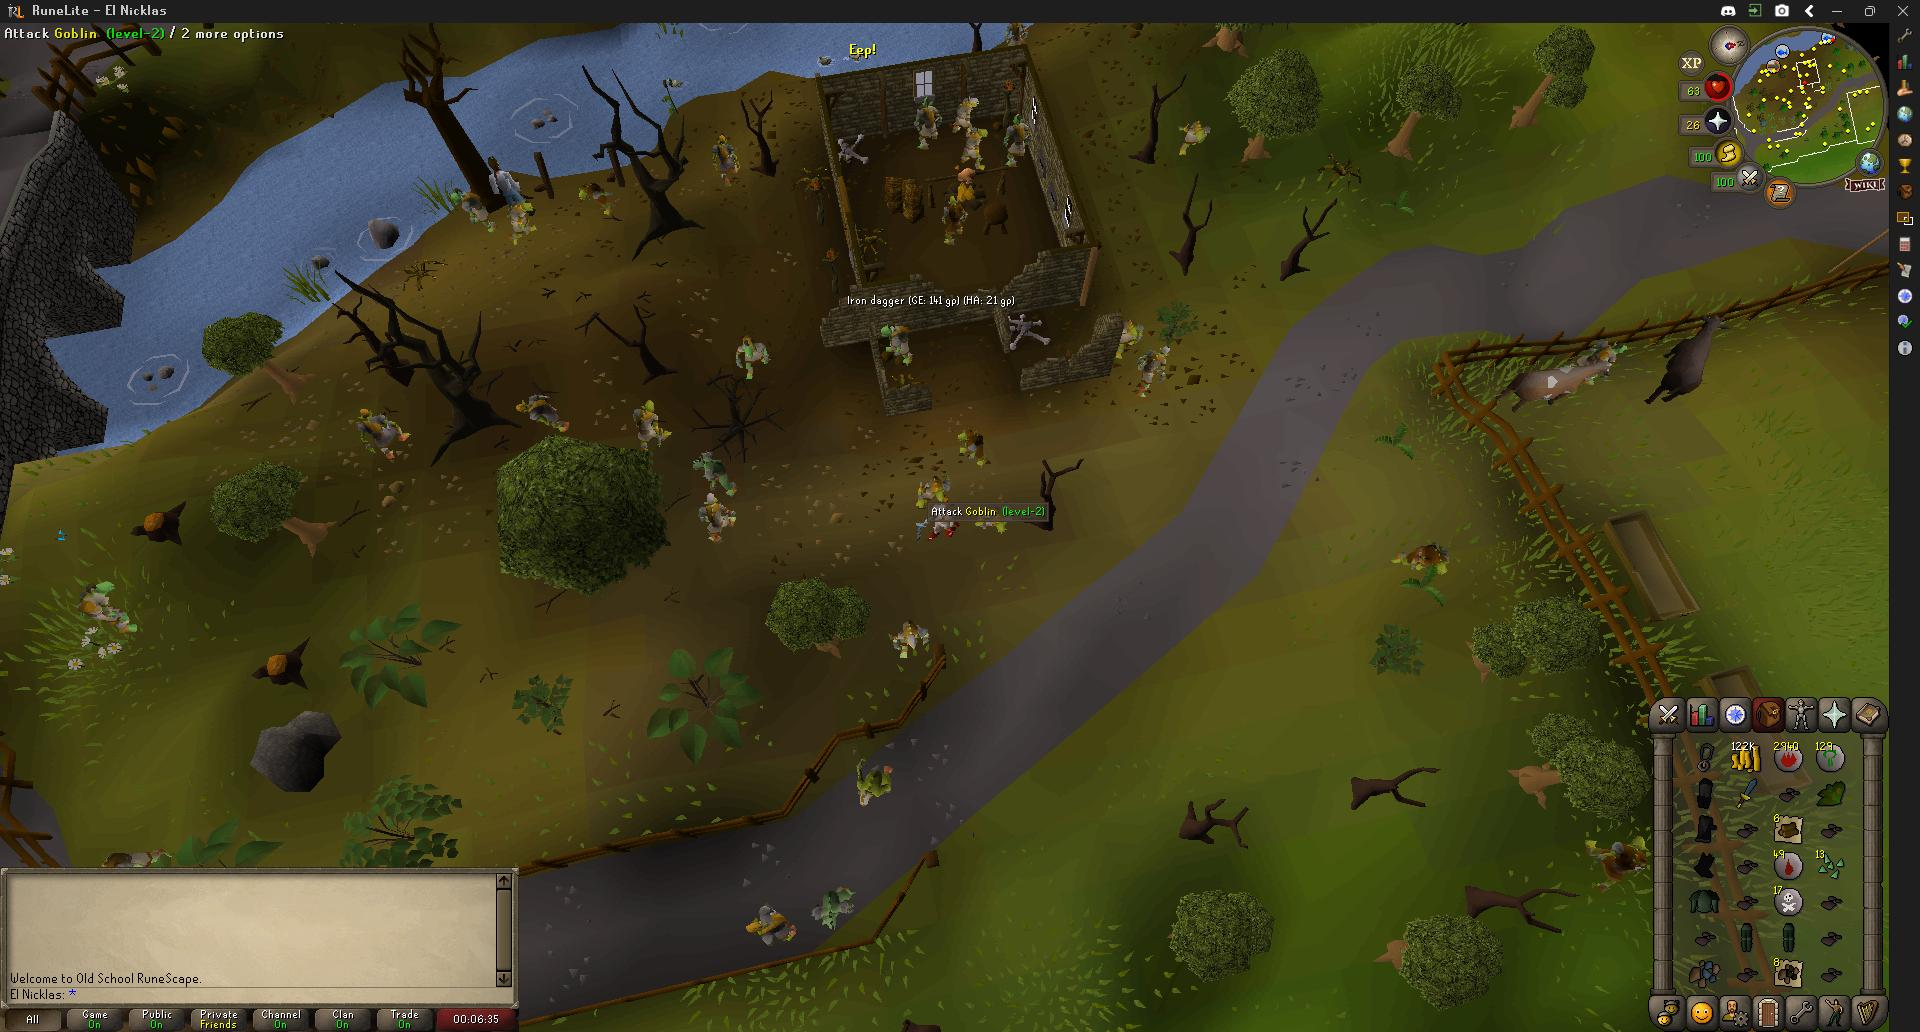Goblin: (1587, 835, 1652, 891), (1394, 538, 1449, 597), (517, 391, 571, 441), (854, 755, 893, 806), (456, 191, 501, 235), (812, 886, 855, 930), (747, 904, 795, 943), (736, 334, 774, 381), (892, 621, 930, 658), (587, 180, 624, 219), (1177, 119, 1210, 156)
goblin: (351, 404, 412, 460), (80, 588, 137, 637), (909, 95, 947, 153), (1133, 344, 1172, 398), (634, 399, 670, 454), (696, 452, 738, 498), (698, 491, 736, 540), (1003, 112, 1033, 169), (881, 324, 916, 371), (504, 198, 539, 247), (958, 122, 989, 173), (710, 133, 740, 184), (1113, 319, 1145, 365), (950, 164, 980, 211), (940, 200, 968, 247), (950, 95, 980, 139), (957, 428, 989, 466), (916, 479, 957, 508), (1004, 22, 1032, 47)
